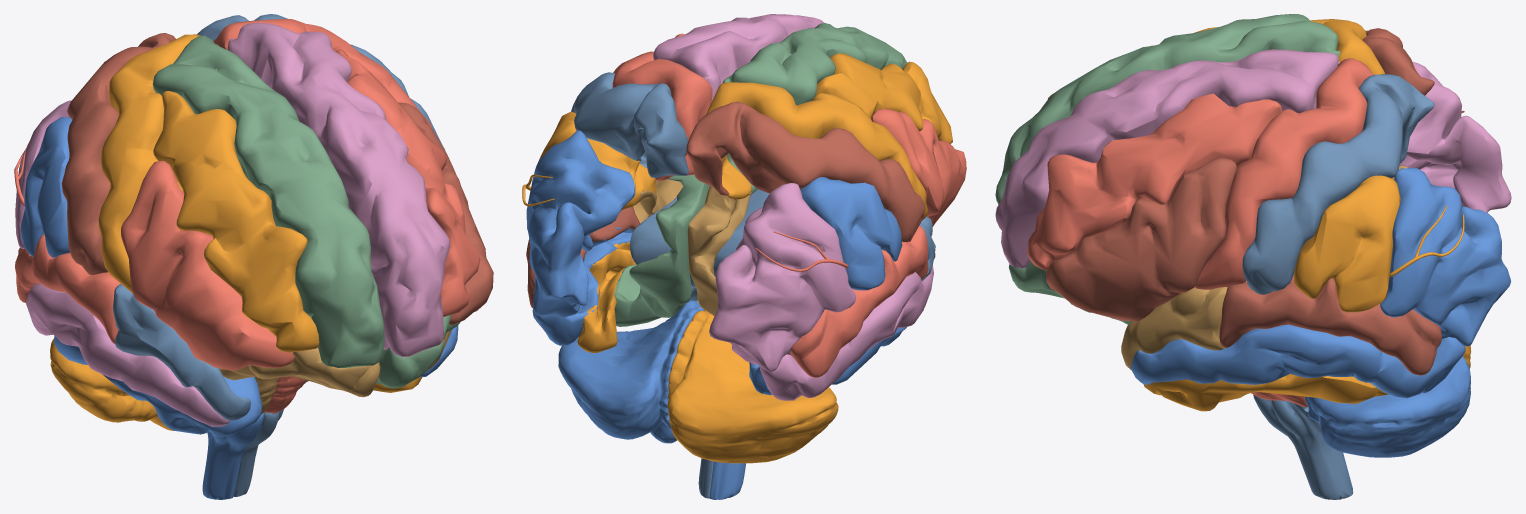
Rendered from brain.glb.
3 views of the same model, side by side, from view 1: azimuth 30°, elevation 25°; view 2: azimuth 150°, elevation 25°; view 3: azimuth 270°, elevation 25° (orthographic). The views are drawn at different scales.
Visible parts, largest first — view 1: Right superior frontal gyrus, Left superior frontal gyrus, Right middle frontal gyrus, Right inferior frontal gyrus, Right precentral gyrus, Right postcentral gyrus, Right middle temporal gyrus, Left middle frontal gyrus, Anterior part of right superior temporal gyrus, Orbital gyrus (×2), Right supramarginal gyrus, Posterior part of right superior temporal gyrus (+8 smaller); view 2: Cerebellum (×2), Right angular gyrus, Right postcentral gyrus, Left angular gyrus, Left postcentral gyrus, Right precentral gyrus, Right superior frontal gyrus, Right supramarginal gyrus, Left superior frontal gyrus, Right middle frontal gyrus, Right middle temporal gyrus, Posterior part of right superior temporal gyrus (+13 smaller); view 3: Left superior frontal gyrus, Left middle frontal gyrus, Left inferior frontal gyrus, Left angular gyrus, Left postcentral gyrus, Left middle temporal gyrus, Left precentral gyrus, Right superior frontal gyrus, Left supramarginal gyrus, Posterior part of left superior temporal gyrus, Cerebellum, Right angular gyrus (+6 smaller).
Boxes of the visible parts, x1,y1,x2,y2 form: Right superior frontal gyrus: (152, 35, 384, 367); Left superior frontal gyrus: (227, 22, 450, 357); Right middle frontal gyrus: (153, 91, 319, 352); Right inferior frontal gyrus: (121, 160, 294, 370); Right precentral gyrus: (98, 34, 200, 293); Right postcentral gyrus: (61, 33, 175, 274); Right middle temporal gyrus: (26, 283, 229, 426); Left middle frontal gyrus: (335, 49, 480, 316); Anterior part of right superior temporal gyrus: (113, 284, 250, 420); Orbital gyrus (×2): (219, 314, 460, 397); Right supramarginal gyrus: (20, 117, 72, 257); Posterior part of right superior temporal gyrus: (15, 234, 120, 344); Cerebellum (×2): (558, 300, 838, 463); Right angular gyrus: (709, 183, 856, 371); Right postcentral gyrus: (686, 101, 924, 242); Left angular gyrus: (526, 130, 635, 318); Left postcentral gyrus: (571, 72, 688, 177); Right precentral gyrus: (706, 82, 928, 220); Right superior frontal gyrus: (722, 23, 907, 193); Right supramarginal gyrus: (800, 177, 902, 290); Left superior frontal gyrus: (653, 14, 824, 102); Right middle frontal gyrus: (812, 53, 952, 144); Right middle temporal gyrus: (759, 265, 933, 400); Posterior part of right superior temporal gyrus: (790, 225, 928, 377); Left superior frontal gyrus: (995, 49, 1339, 268); Left middle frontal gyrus: (1027, 93, 1281, 270); Left inferior frontal gyrus: (1046, 158, 1236, 321); Left angular gyrus: (1380, 168, 1511, 346); Left postcentral gyrus: (1242, 74, 1434, 294); Left middle temporal gyrus: (1130, 324, 1465, 398); Left precentral gyrus: (1194, 58, 1373, 289); Right superior frontal gyrus: (995, 14, 1340, 204); Left supramarginal gyrus: (1294, 175, 1400, 312); Posterior part of left superior temporal gyrus: (1219, 275, 1441, 375); Cerebellum: (1305, 356, 1470, 457); Right angular gyrus: (1399, 61, 1511, 212).
Bounding box in the file's own units: 1.65 × 1.94 × 2.
